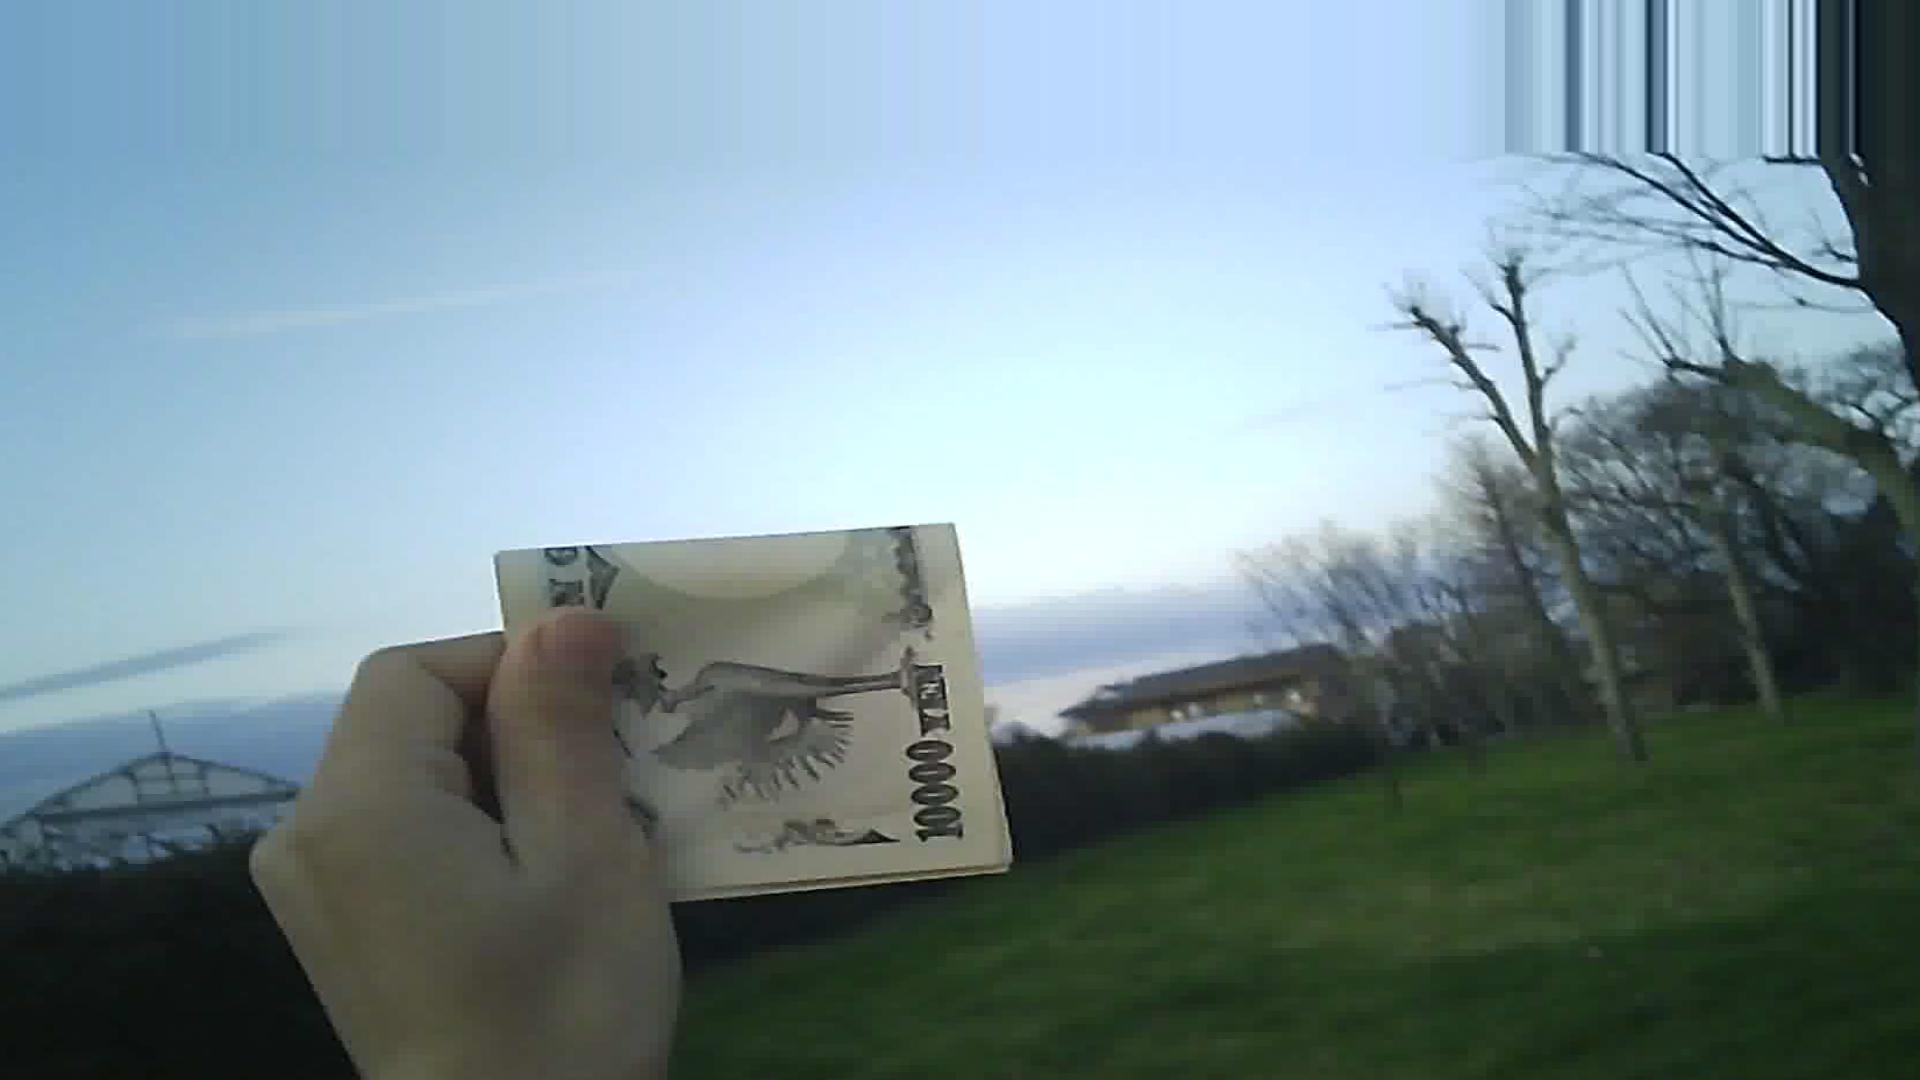10,000 Yen: (469, 520, 1083, 928)
